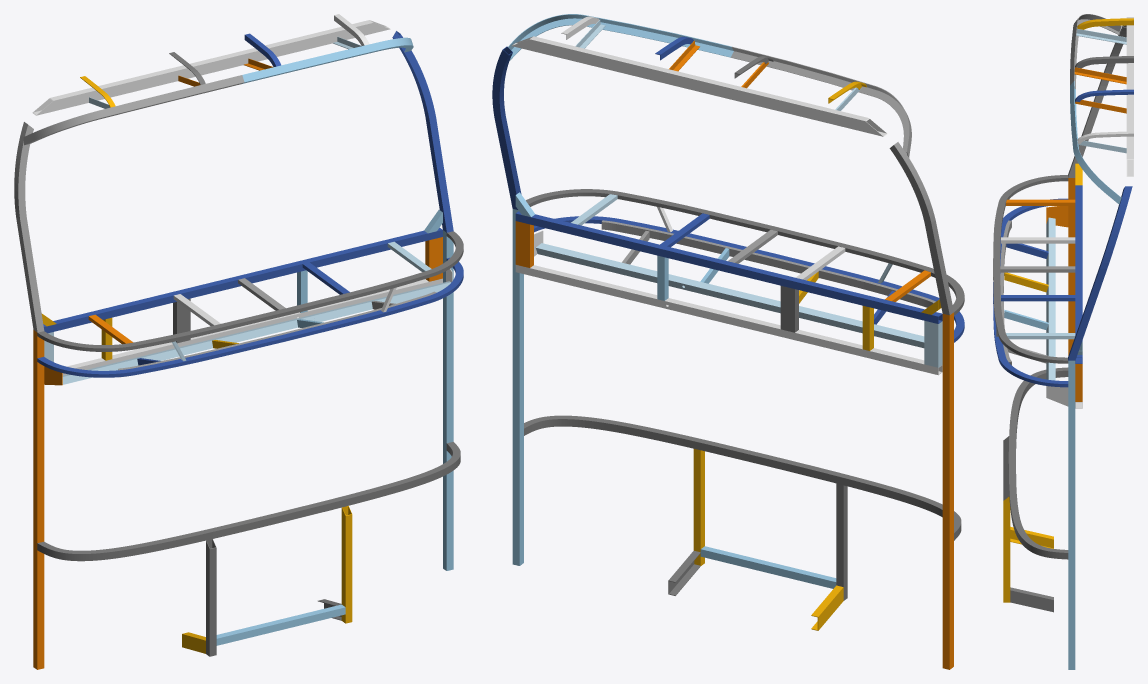
The model's file is T8R620-Front.dae.
3 views of the same model, side by side, from view 1: azimuth 30°, elevation 25°; view 2: azimuth 150°, elevation 25°; view 3: azimuth 270°, elevation 25° (orthographic). The views are drawn at different scales.
Visible parts, largest first — view 1: T8R620-Front (×17); view 2: T8R620-Front (×22); view 3: T8R620-Front (×36).
Boxes of the visible parts, box(x1,y1,x2,y2) form: T8R620-Front (×17): box(14, 20, 463, 669); T8R620-Front (×22): box(492, 14, 964, 669); T8R620-Front (×36): box(993, 14, 1133, 669).
Bounding box in the file's own units: 96.46 × 30.97 × 123.
